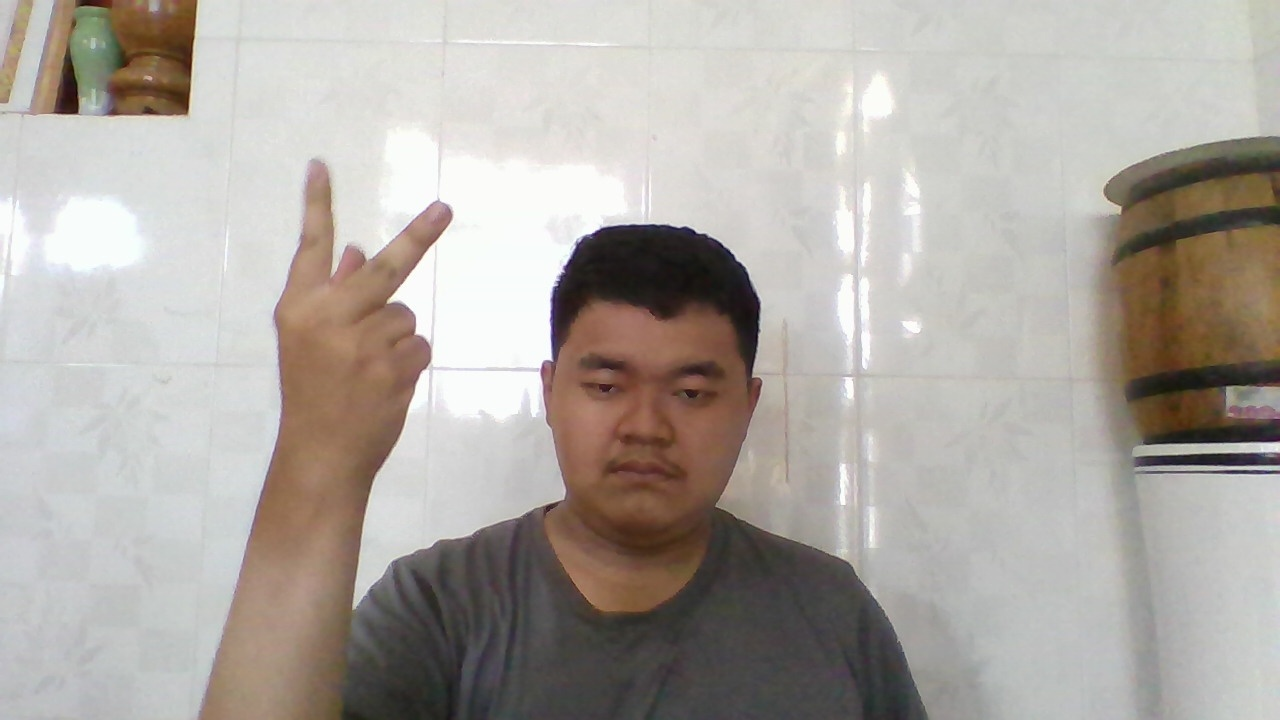K: (274, 150, 459, 473)
